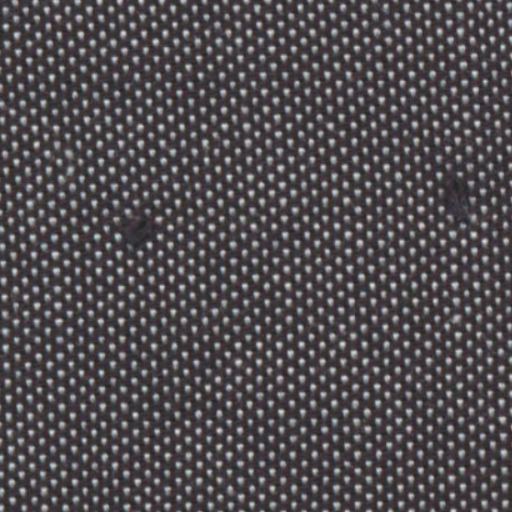MianQiu: (104, 175, 186, 271), (416, 146, 486, 250)
